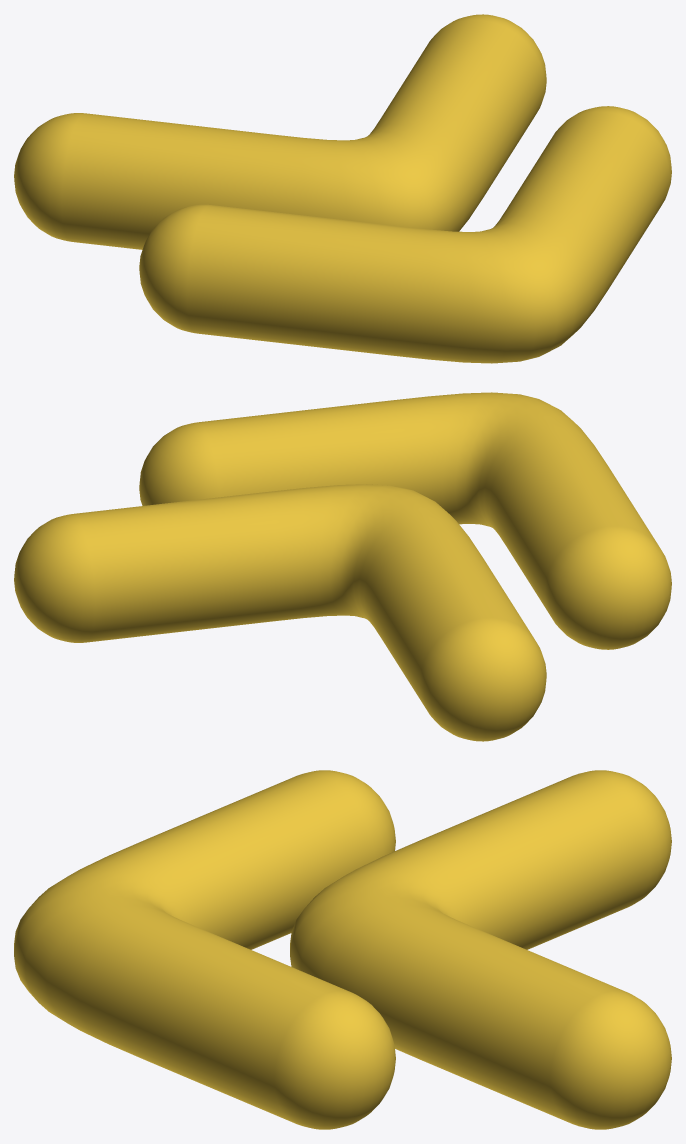
File: Boost.fbx
The picture shows the model from 3 angles, top to bottom: view 1: azimuth 30°, elevation 25°; view 2: azimuth 150°, elevation 25°; view 3: azimuth 270°, elevation 25°; orthographic projection. The views are drawn at different scales.
Parts seen in each view (by area): view 1: Boost; view 2: Boost; view 3: Boost.
Boxes of the visible parts, x1=… form: Boost: x1=14, y1=14, x2=671, y2=363; Boost: x1=14, y1=392, x2=671, y2=741; Boost: x1=14, y1=770, x2=671, y2=1129.
Size of the model in its own units: 244 by 53.15 by 245.
